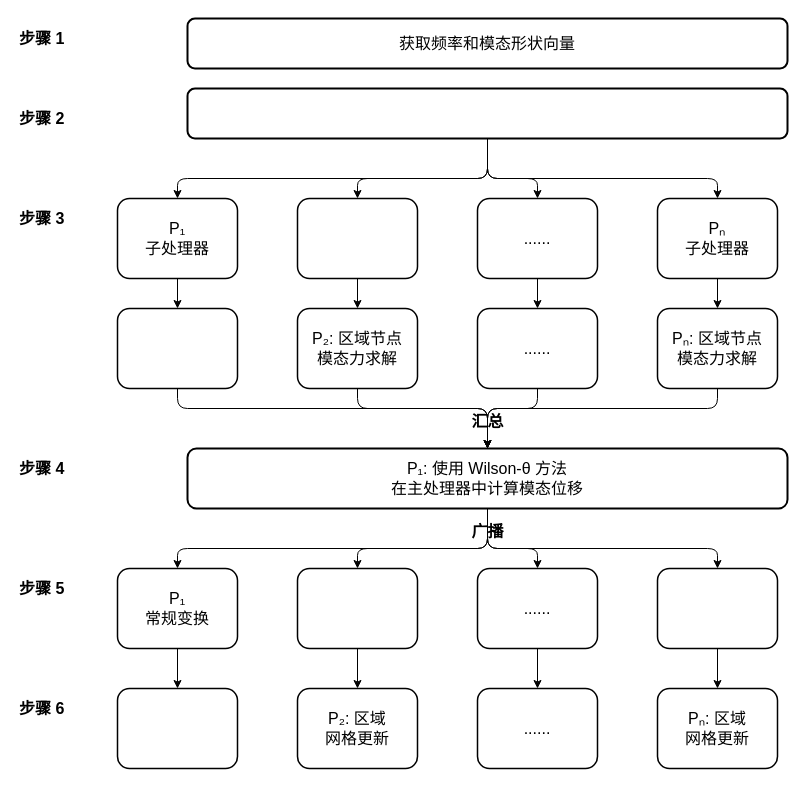
Some shapes in this 805 by 786 pixel diagram are drawn without their labels. Here are the shapes that lost their labels. From the top down, the centre of each, then its label:
pixel 487 113: 分配结构-伪弹性体节点
pixel 357 238: P₂ 子处理器
pixel 177 348: P₁: 区域节点 模态力求解
pixel 357 608: P₂ 常规变换
pixel 717 608: Pₙ 常规变换
pixel 177 728: P₁: 区域 网格更新
